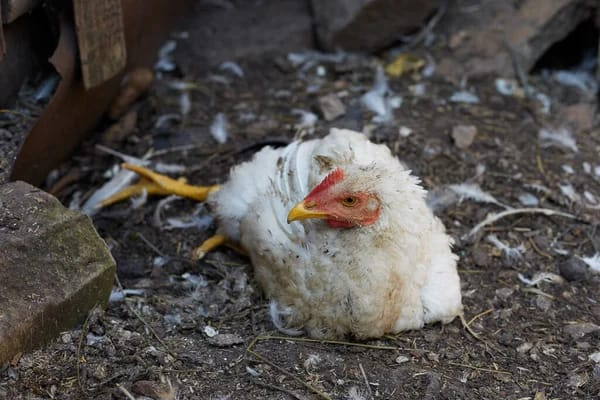Unhealthy: (90, 112, 469, 330)
